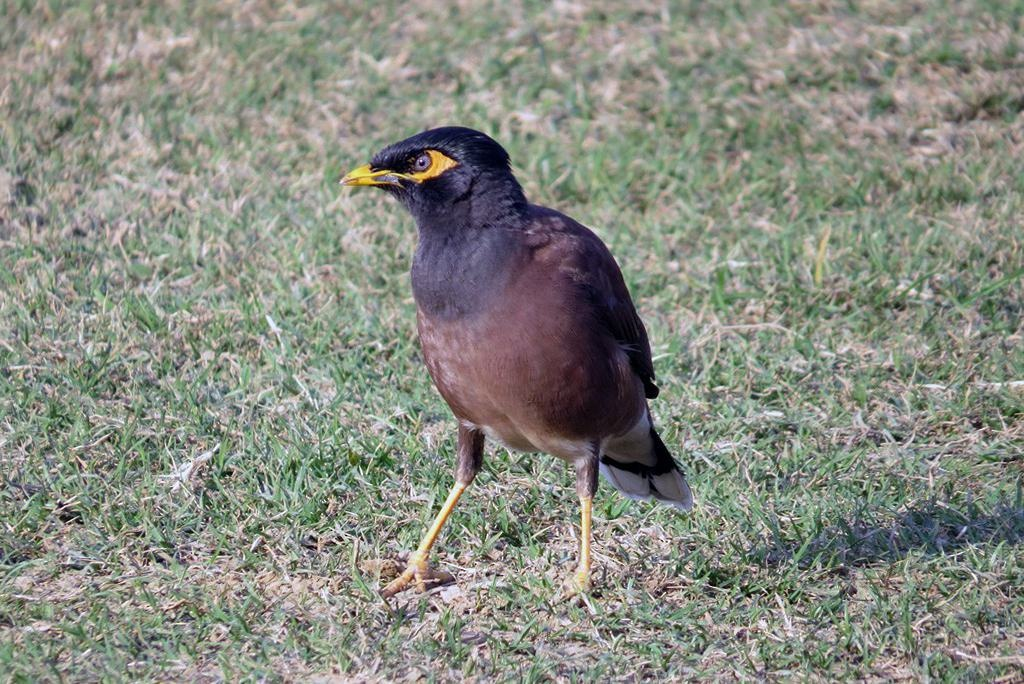myna: (331, 127, 714, 567)
